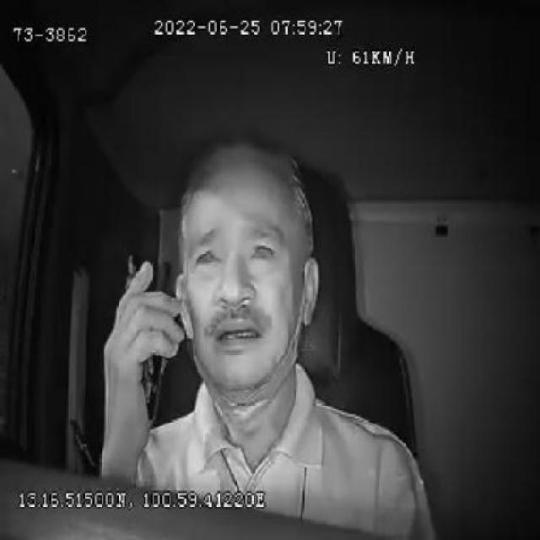phone: (123, 247, 166, 425)
